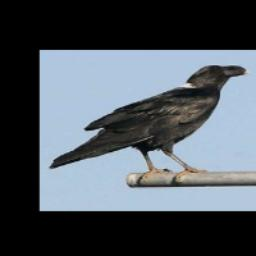Crow: (49, 63, 249, 185)
